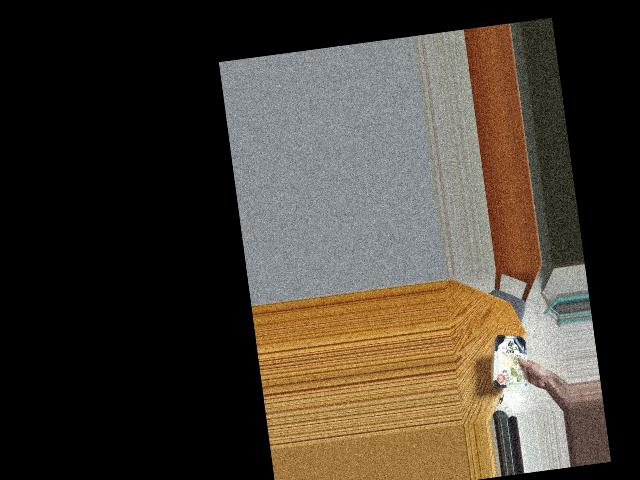cheese: (488, 334, 537, 383)
